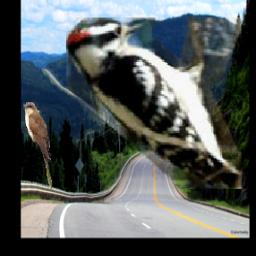Cuckoo: (23, 102, 53, 189)
Woodpecker: (66, 18, 242, 189)
